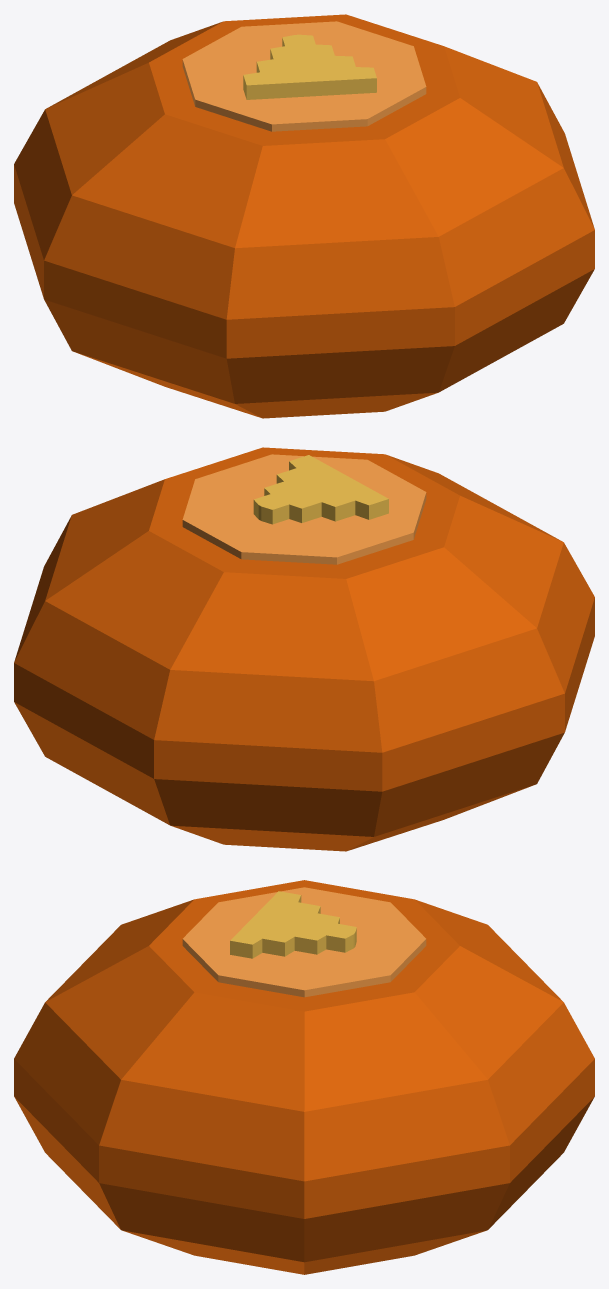
File: w4_secretcore.fbx
3 renders of one model, top to bottom at view 1: azimuth 30°, elevation 25°; view 2: azimuth 150°, elevation 25°; view 3: azimuth 270°, elevation 25°, orthographic. The views are drawn at different scales.
Parts seen in each view (by area): view 1: DesertCore.Gem, DesertCore.Table, DesertCore.Pyramid; view 2: DesertCore.Gem, DesertCore.Table, DesertCore.Pyramid; view 3: DesertCore.Gem, DesertCore.Table, DesertCore.Pyramid.
Boxes of the visible parts, left/top/right/bottom form: DesertCore.Gem: left=14, top=14, right=594, bottom=418; DesertCore.Table: left=182, top=21, right=426, bottom=131; DesertCore.Pyramid: left=243, top=34, right=376, bottom=99; DesertCore.Gem: left=14, top=447, right=594, bottom=851; DesertCore.Table: left=182, top=454, right=426, bottom=564; DesertCore.Pyramid: left=253, top=455, right=388, bottom=524; DesertCore.Gem: left=14, top=880, right=594, bottom=1274; DesertCore.Table: left=182, top=887, right=426, bottom=997; DesertCore.Pyramid: left=230, top=891, right=356, bottom=958.
Bounding box in the file's own units: 0.296 × 0.1639 × 0.296.
